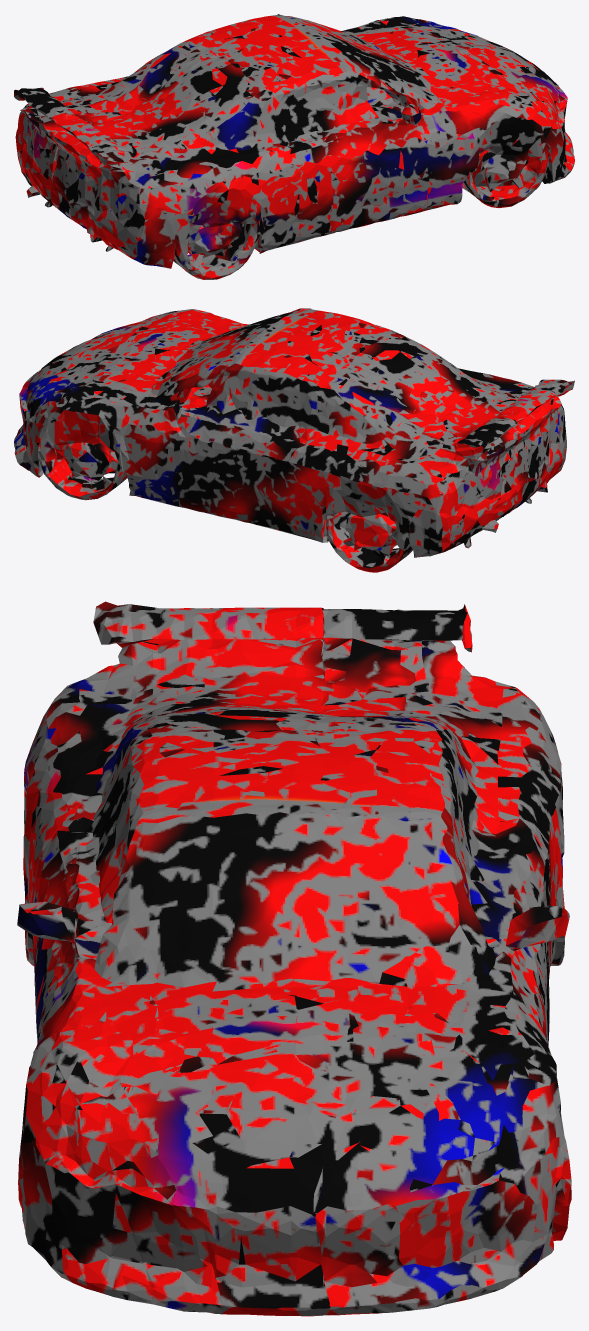
The picture shows the model from 3 angles, top to bottom: view 1: azimuth 30°, elevation 25°; view 2: azimuth 150°, elevation 25°; view 3: azimuth 270°, elevation 25°; orthographic projection. The views are drawn at different scales.
Size of the model in its own units: 0.8988 by 0.2726 by 0.4421.
